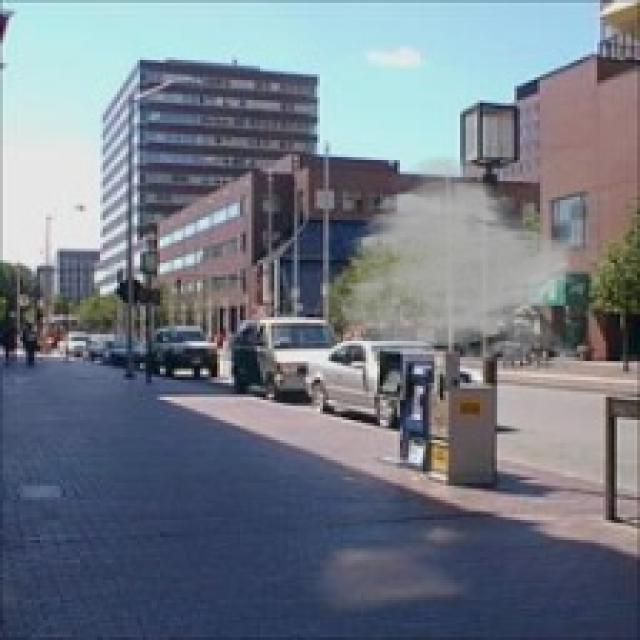smoke: (332, 149, 608, 377)
